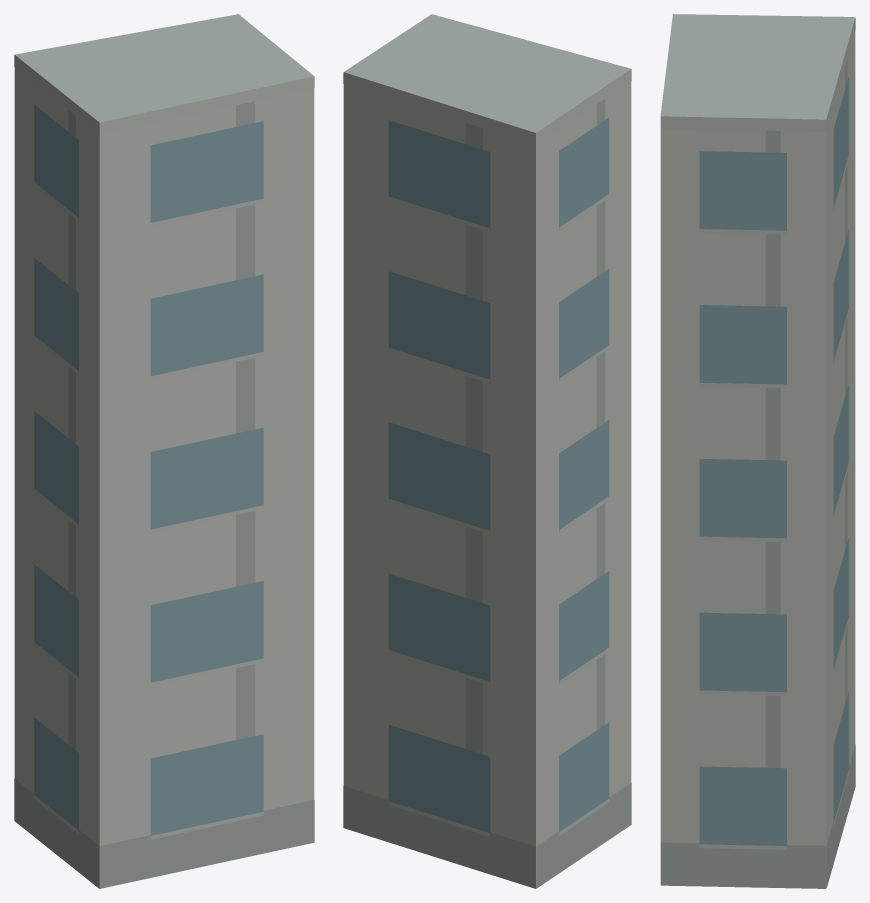
File: survey-upis-32645693.glb
3 views of the same model, side by side, from view 1: azimuth 30°, elevation 25°; view 2: azimuth 150°, elevation 25°; view 3: azimuth 270°, elevation 25° (orthographic).
Parts seen in each view (by area): view 1: survey-upis-32645693.tmp; view 2: survey-upis-32645693.tmp; view 3: survey-upis-32645693.tmp.
Boxes of the visible parts, box(x1,y1,x2,y2) form: survey-upis-32645693.tmp: box(14, 14, 314, 888); survey-upis-32645693.tmp: box(343, 14, 631, 888); survey-upis-32645693.tmp: box(660, 14, 855, 888).
Bounding box in the file's own units: 4.5 × 15.25 × 3.51.
